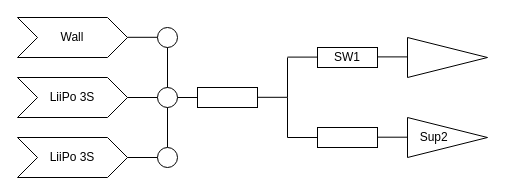
Some shapes in this 505 by 195 pixel diagram are drawn without their labels. Here are the shapes that lost their labels. From the top down, the centre of each, then its label:
pixel 447 57: Sup1
pixel 227 97: Fuse
pixel 347 137: SW2
